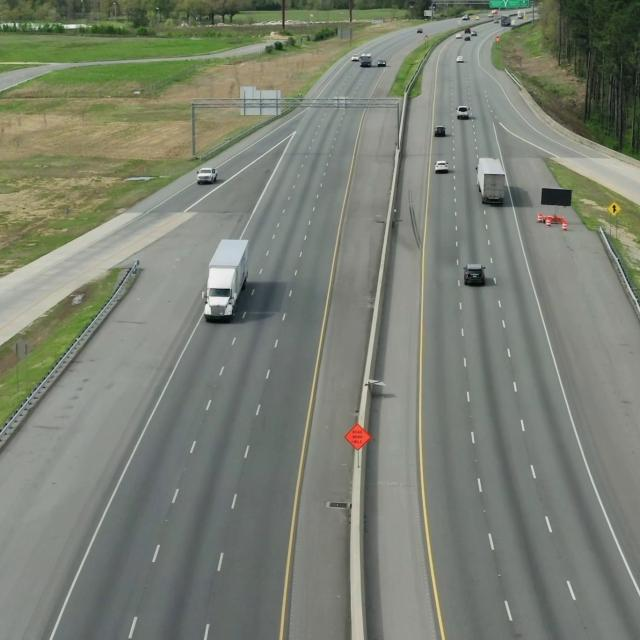Car: (205, 233, 250, 322), (475, 154, 509, 210), (462, 259, 488, 288), (194, 164, 220, 187), (433, 160, 452, 176), (456, 103, 471, 122), (434, 124, 449, 141)
